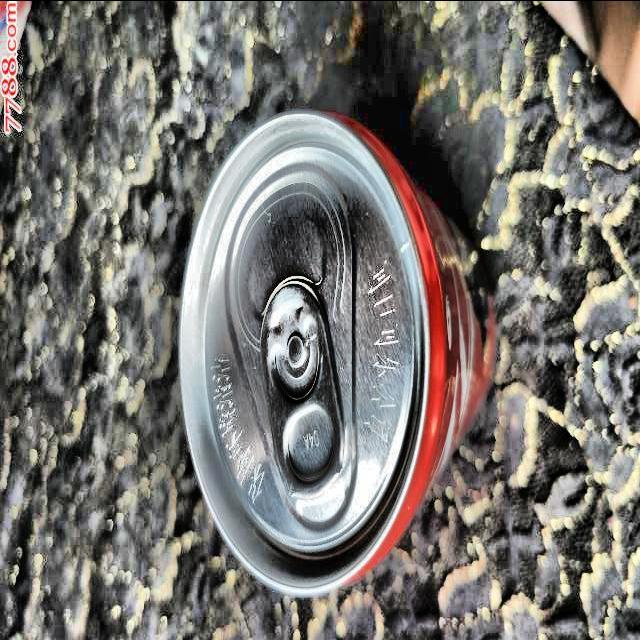Aluminum Can: (171, 102, 504, 599)
